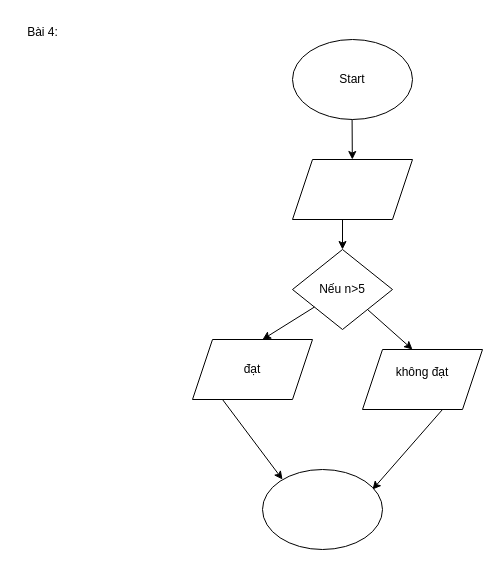
Image size: 500x567. Some labels were removed from this diagram. The shapes that lost their labels are listed below. From the top down, each one's centre as x and y in pixels, then its label:
At [352,189]: "Nhập số điểm (n)".
At [322,509]: "kết thúc".
